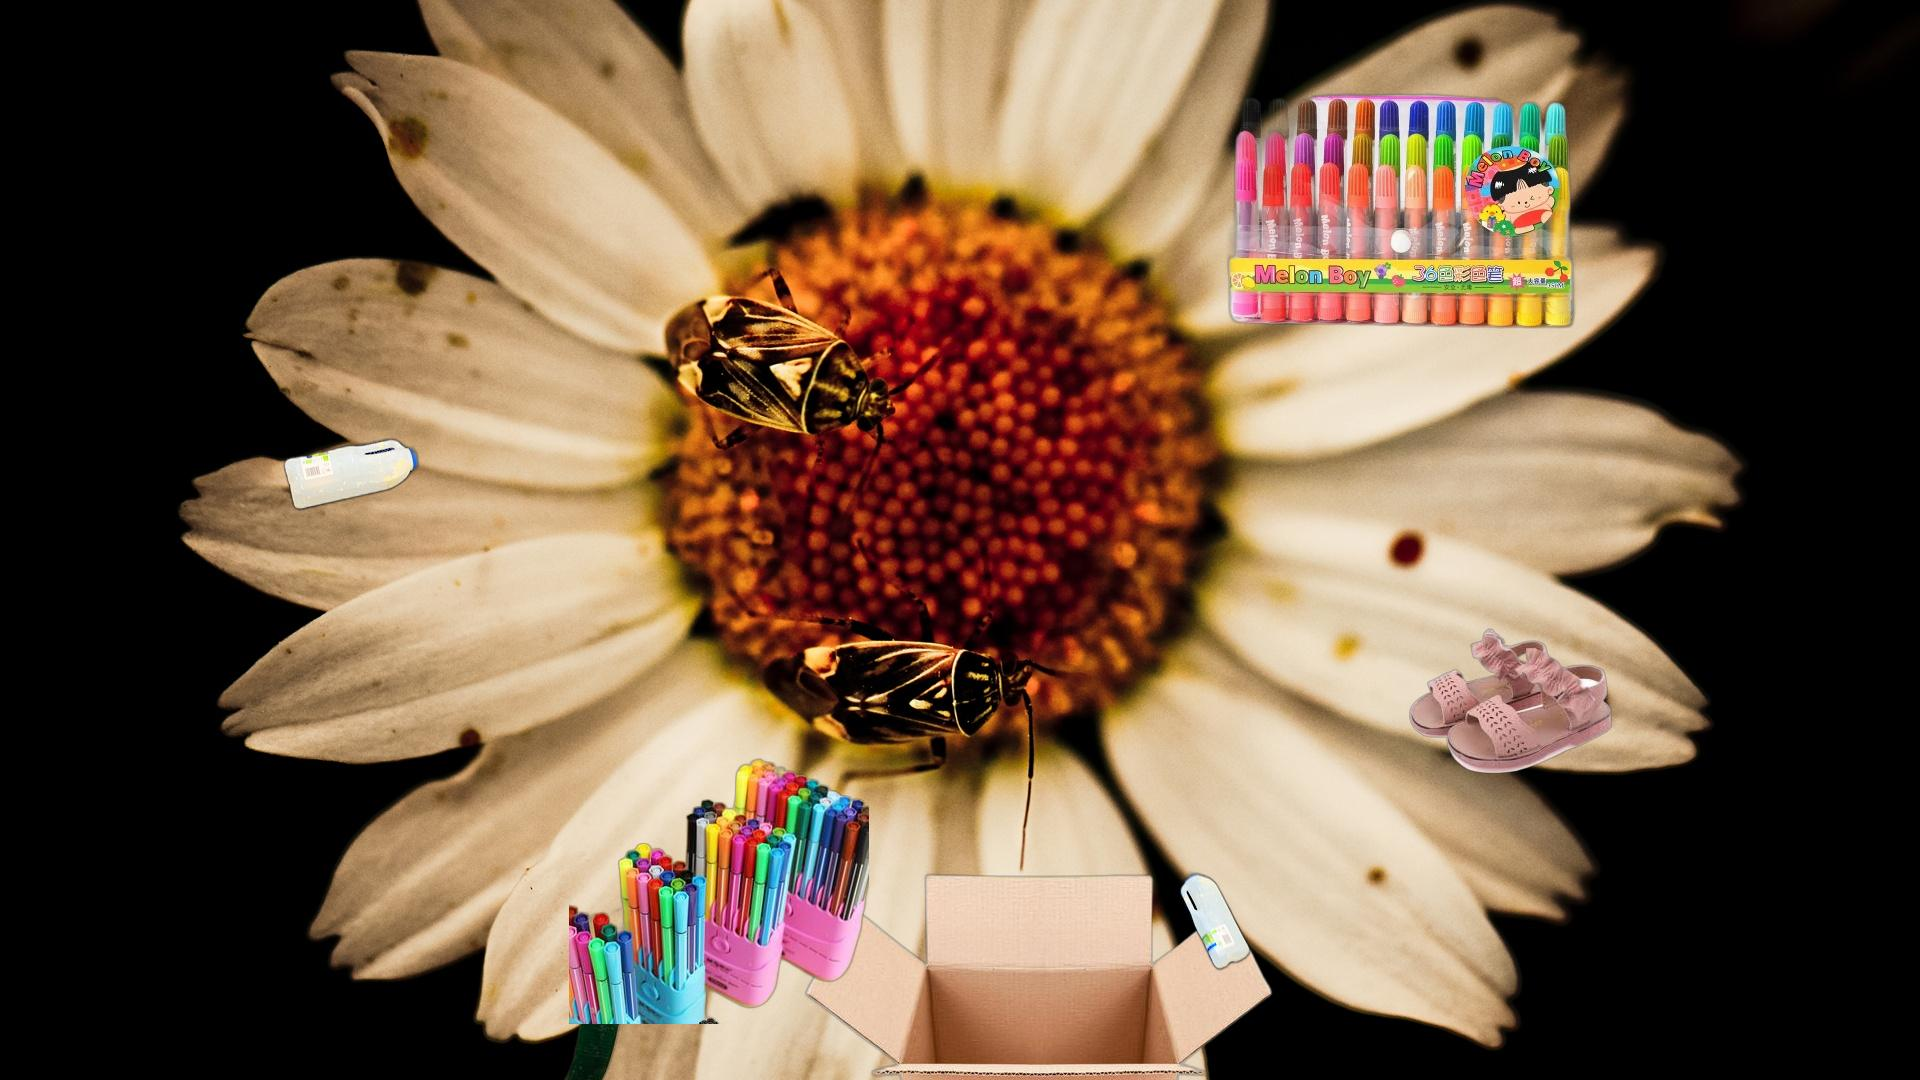penholder: (1220, 91, 1590, 336), (568, 756, 869, 1025)
plastic-bottles: (280, 433, 422, 516), (553, 955, 628, 1080), (1175, 868, 1254, 976)
shoes: (1407, 626, 1615, 775)
trashbox-cardboard: (802, 872, 1276, 1080)
